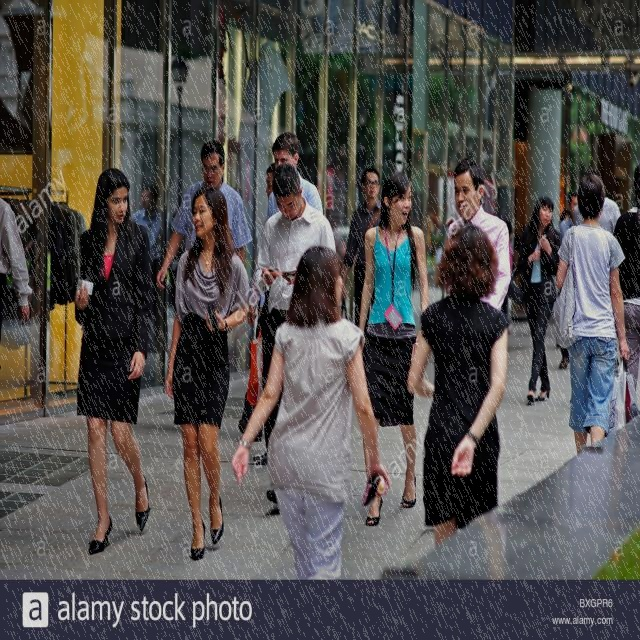pessoa: (228, 245, 392, 581), (160, 185, 256, 564), (408, 223, 508, 579), (73, 160, 157, 560), (251, 162, 337, 504), (350, 167, 430, 530), (554, 173, 632, 459), (154, 138, 252, 292), (256, 130, 326, 321), (516, 193, 562, 408), (452, 156, 512, 314), (128, 175, 168, 366), (339, 167, 382, 337), (612, 160, 640, 420), (0, 179, 33, 337), (235, 292, 264, 442), (558, 188, 579, 370), (572, 167, 622, 236), (516, 219, 528, 299), (262, 162, 277, 202), (558, 207, 572, 228)
